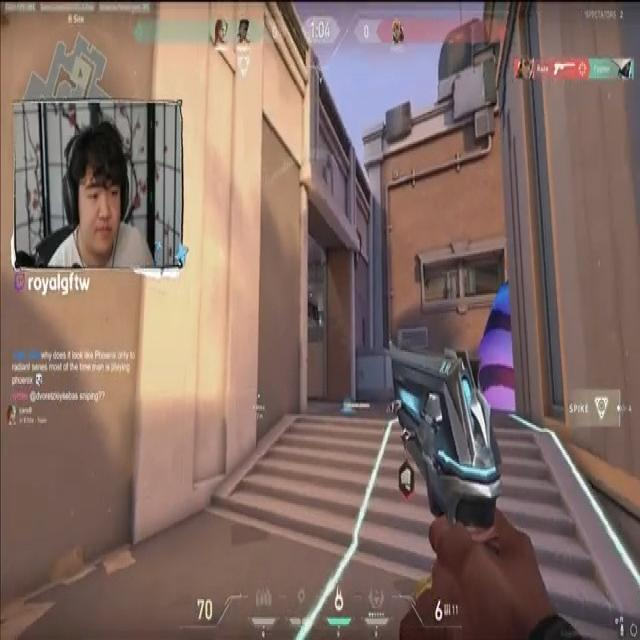smoke: (481, 282, 514, 412)
